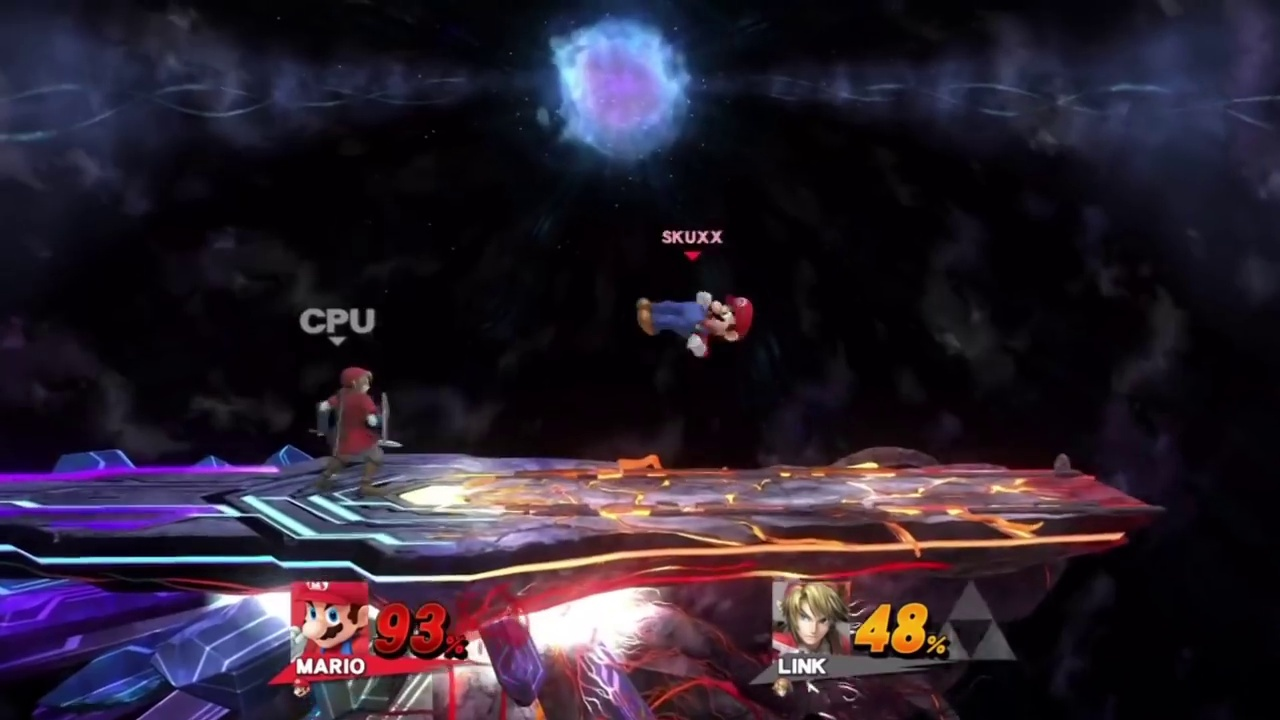Mario: (635, 290, 754, 358)
